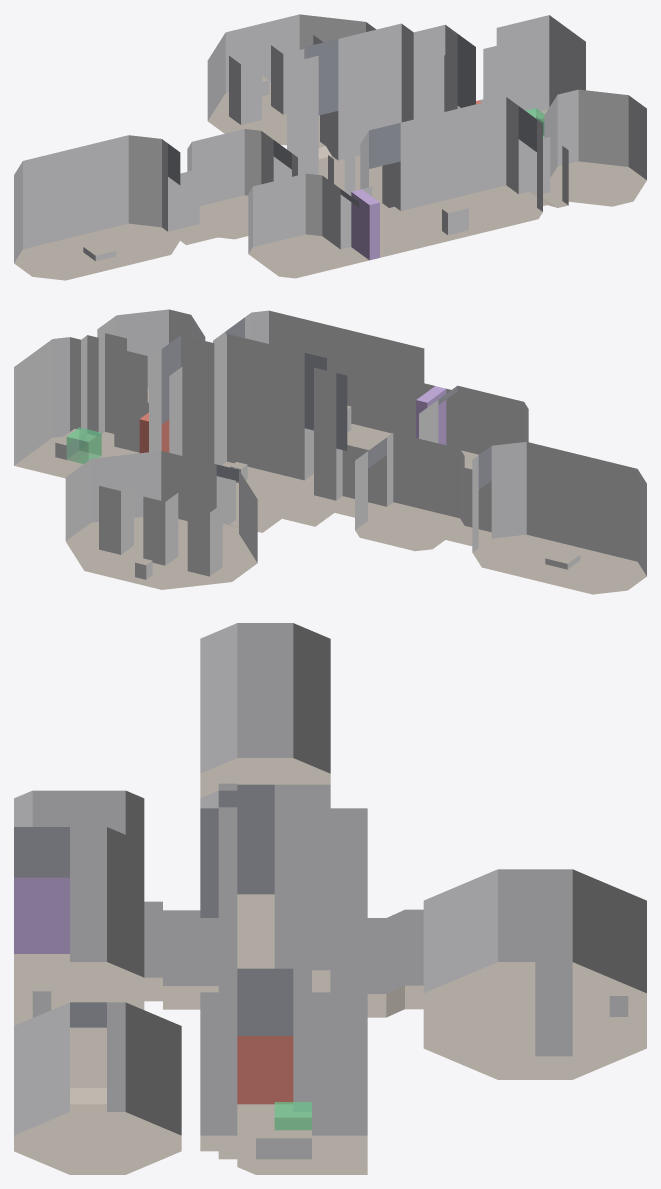
The model's file is deck_01.glb.
3 views of the same model, one above another, from view 1: azimuth 30°, elevation 25°; view 2: azimuth 150°, elevation 25°; view 3: azimuth 270°, elevation 25° (orthographic). The views are drawn at different scales.
Parts seen in each view (by area): view 1: room:5, room:1, room:2, room:6, room:0, room:7, room:3, room:4, corridor:4, corridor:0, entities, corridor:1 (+3 smaller); view 2: room:2, room:5, room:6, room:3, room:1, room:4, room:7, room:0, entities, corridor:3, corridor:4, corridor:5 (+2 smaller); view 3: room:6, room:3, room:2, room:0, room:5, room:1, entities, corridor:1, corridor:5, room:7, room:4, corridor:0 (+1 smaller).
Part boxes in pixels (x1,y1,x2,y2): room:5: (14,135,180,280); room:1: (360,97,542,255); room:2: (287,23,475,203); room:6: (207,14,376,145); room:0: (544,89,646,206); room:7: (248,173,358,278); room:3: (483,15,585,138); room:4: (187,129,297,239); corridor:4: (168,169,217,244); corridor:0: (518,137,568,207); entities: (351,100,544,260); corridor:1: (344,154,400,215); room:2: (149,334,347,527); room:5: (472,441,646,594); room:6: (65,451,257,589); room:3: (14,333,147,478); room:1: (213,310,424,449); room:4: (355,432,464,551); room:7: (419,385,528,469); room:0: (97,309,205,402); entities: (66,386,446,463); corridor:3: (335,445,386,520); corridor:4: (446,468,491,547); corridor:5: (216,468,268,533); room:6: (423,869,646,1079); room:3: (200,968,367,1174); room:2: (200,784,367,992); room:0: (14,1002,181,1174); room:5: (200,623,330,797); room:1: (14,827,144,1079); entities: (14,877,311,1130); corridor:1: (144,901,218,1009); corridor:5: (367,909,423,1017); room:7: (14,790,144,842); room:4: (200,790,274,946); corridor:0: (70,1080,106,1111).
Bounding box in the file's own units: 53 × 11 × 34.
